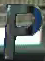Parking: (4, 3, 43, 60)
